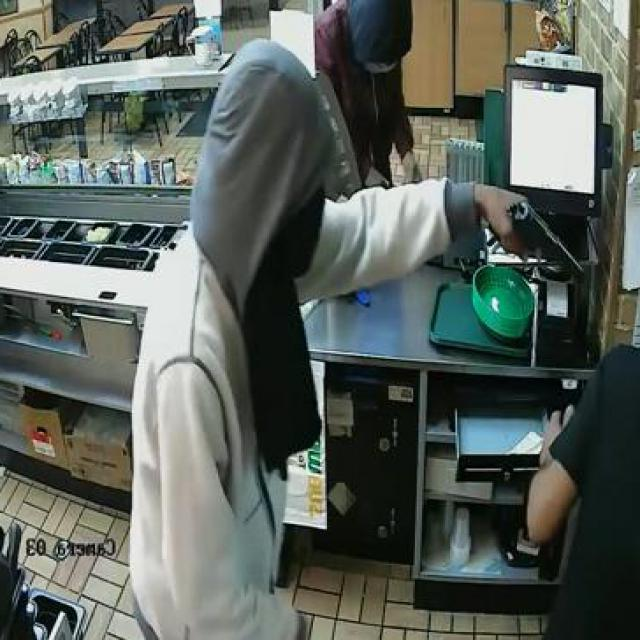Gun: (494, 192, 589, 280)
